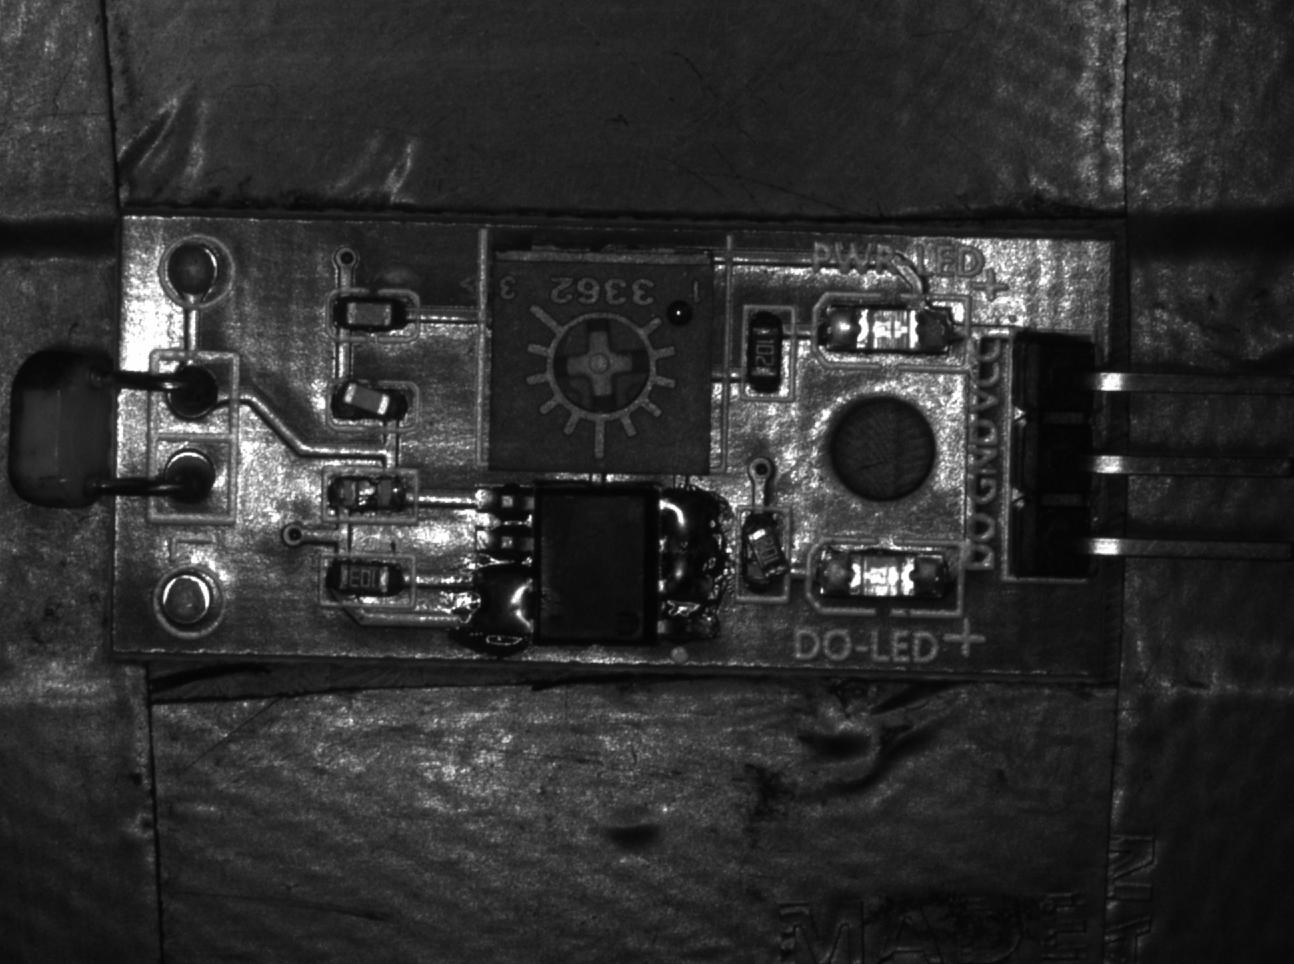bridge: (660, 484, 725, 606), (471, 563, 534, 645)
lifted: (737, 508, 789, 599), (326, 378, 418, 428)
miss: (322, 470, 418, 517)
ok: (743, 305, 795, 401), (319, 555, 414, 602), (327, 291, 418, 339)
